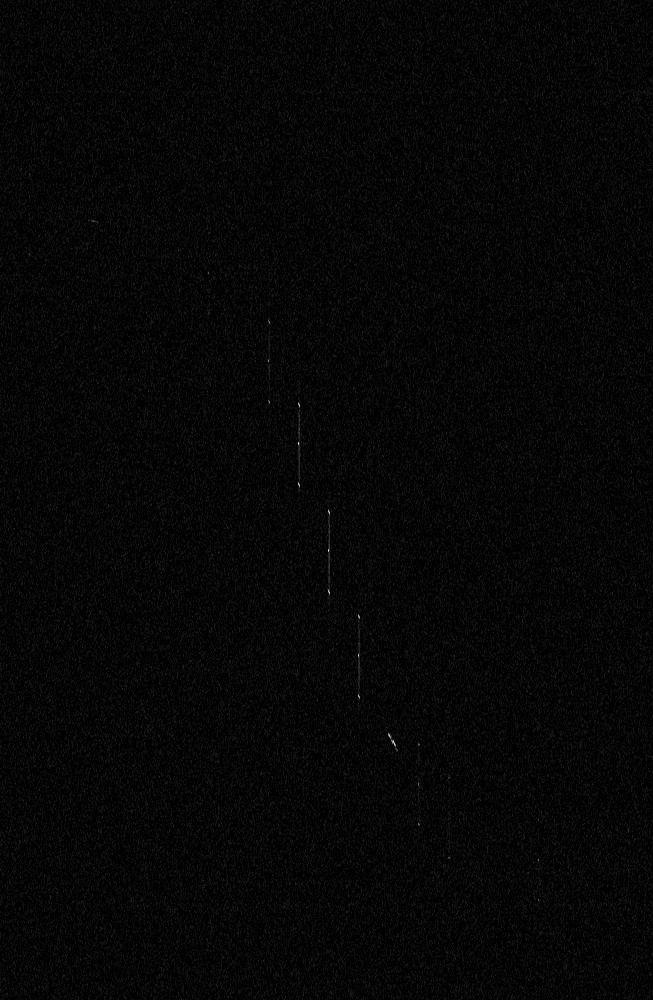signal: (0, 0, 652, 999)
